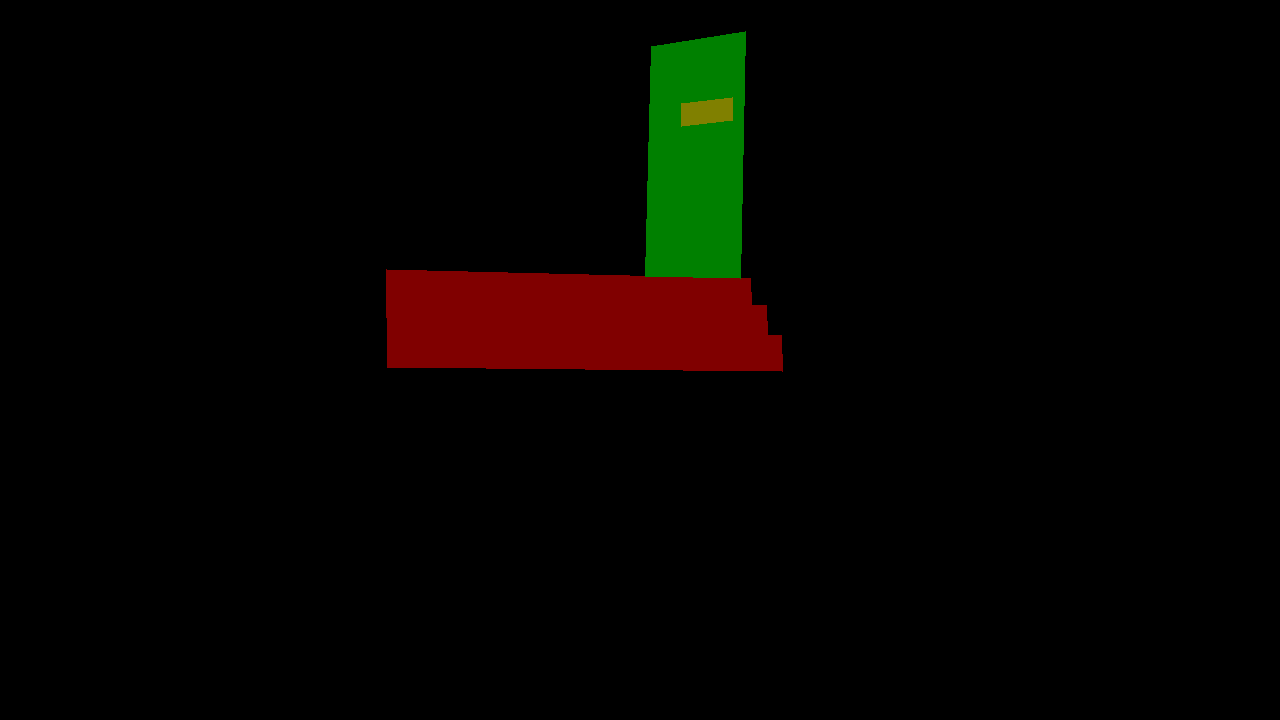door: (645, 31, 745, 278)
sign: (681, 97, 732, 126)
stair: (386, 269, 782, 371)
